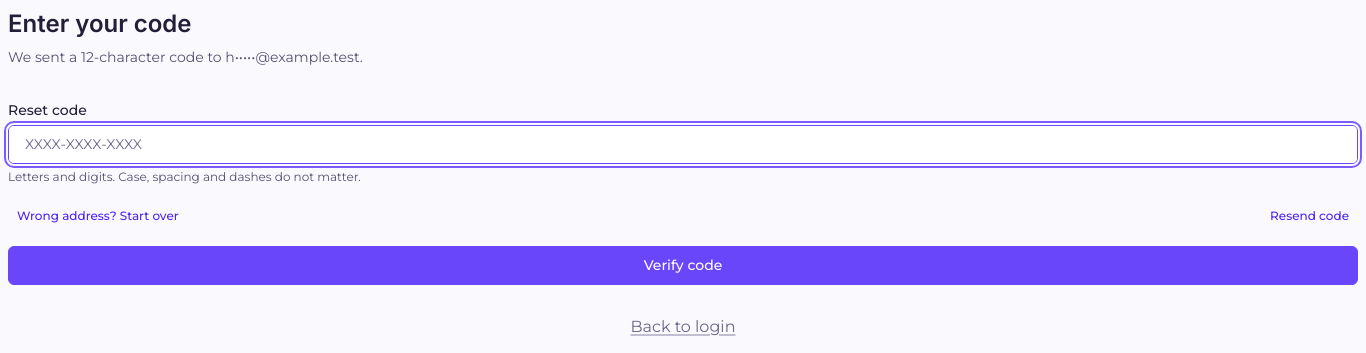
Scenario: a mistyped address can be corrected › returns to the address form without throwing the attempt away
Expected: the heading "Enter your code" is shown, [8,9,192,38]
Step 1. Click the button "Wrong address? Start over" → (98, 216), box [8,202,188,230]
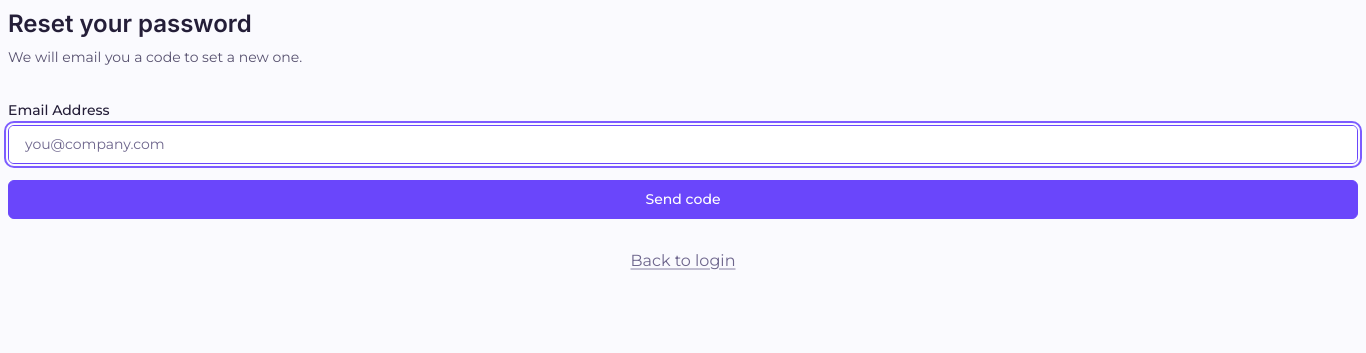
Expected: the heading "Reset your password" is shown, [8,9,252,38]
Expected: the field labelled "Email Address" is shown, [9,126,1357,163]
